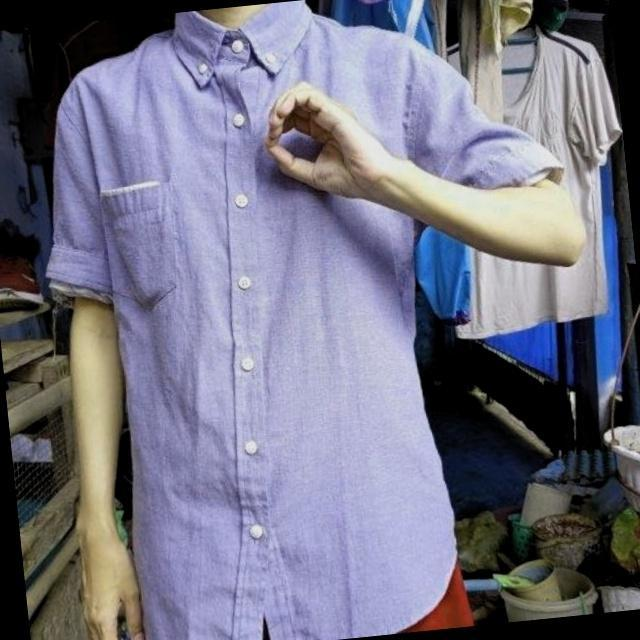O: (257, 75, 367, 203)
